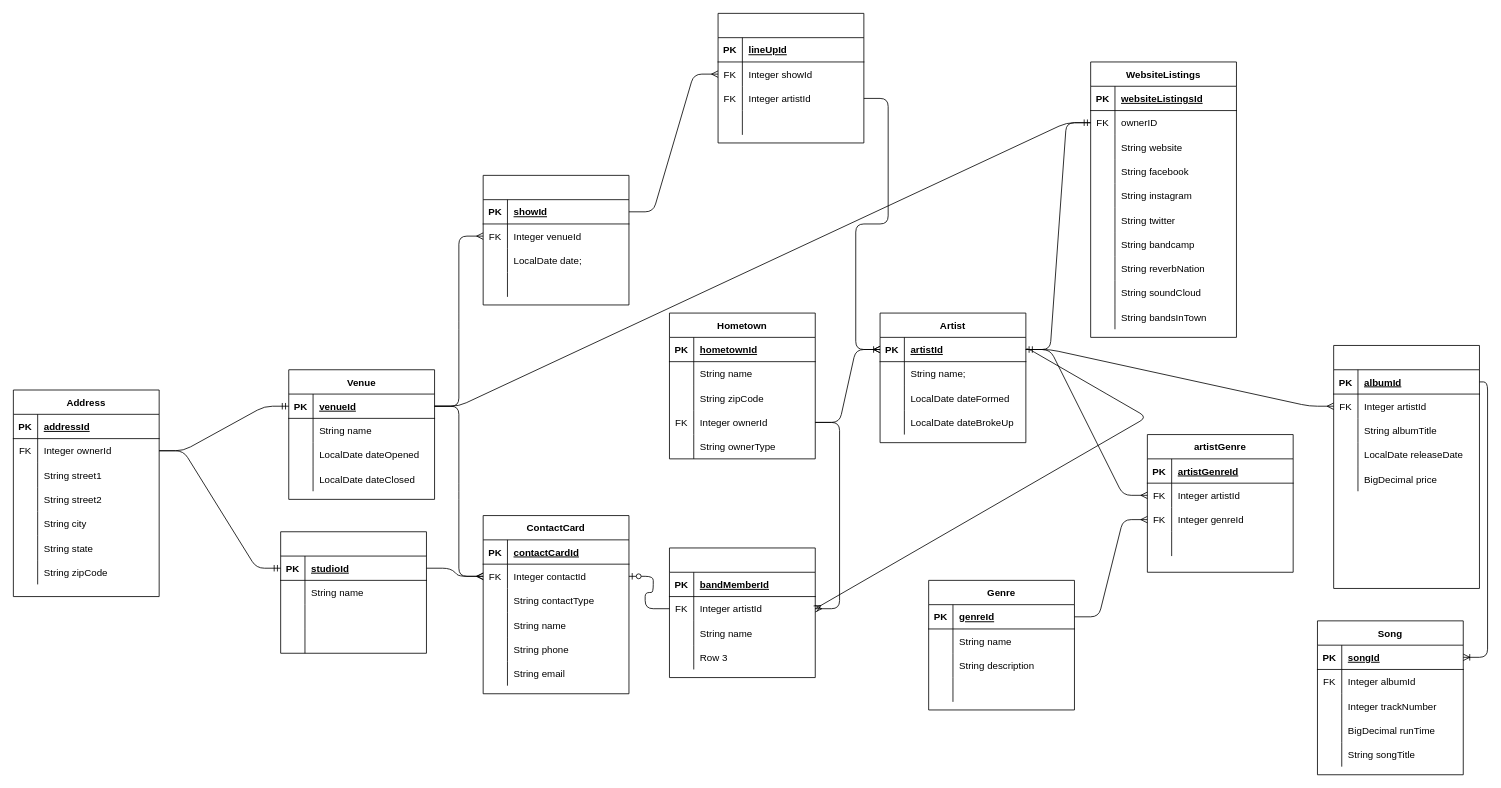
Image size: 1501x788. Some labels were removed from this diagram. Here are the shapes that lost their labels. From the top down, the box of each, then its label:
(717, 13, 864, 143): BandOnShowLineUp
(482, 175, 629, 305): Shows
(1333, 345, 1479, 588): Albums
(280, 531, 426, 653): RecordingStudio
(669, 547, 815, 678): BandMembers
